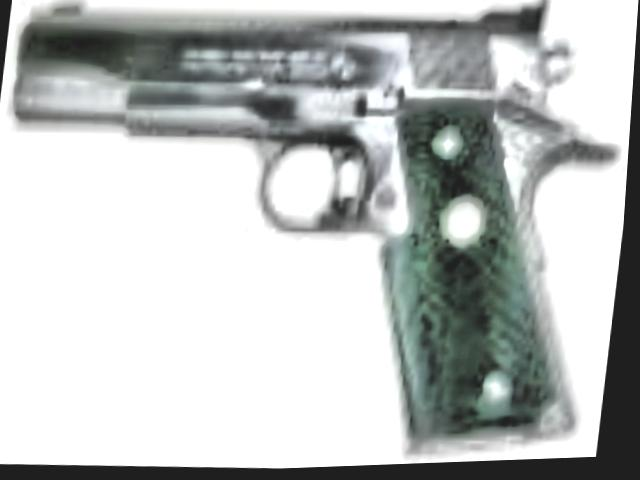pistol: (0, 0, 640, 468)
